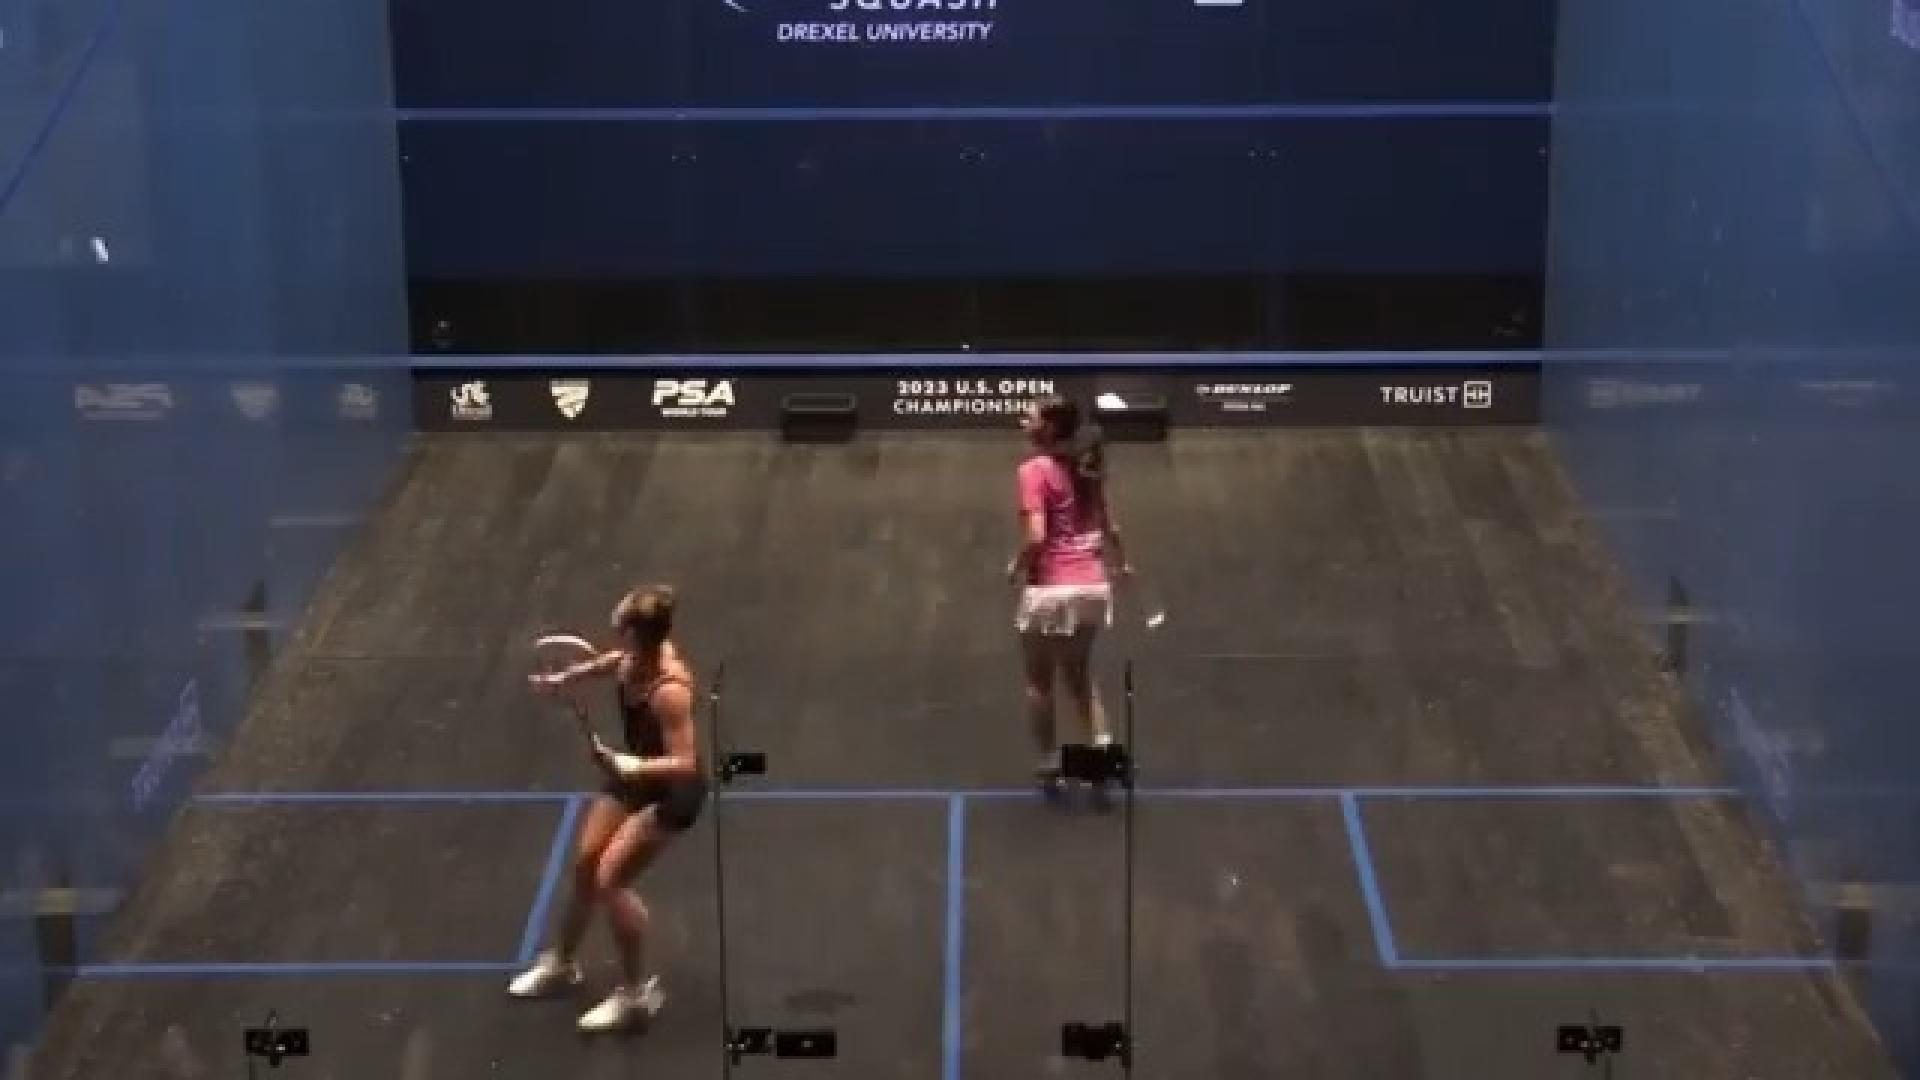Squash-Ball: (74, 225, 133, 285)
